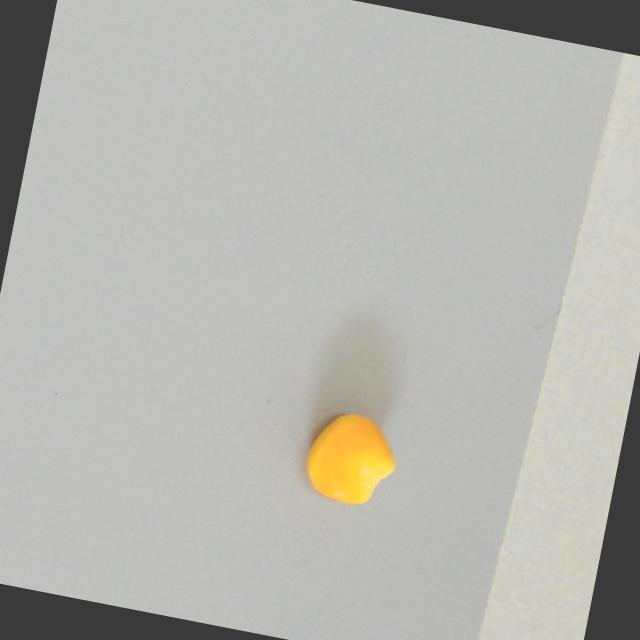no_canjicado: (293, 403, 410, 518)
